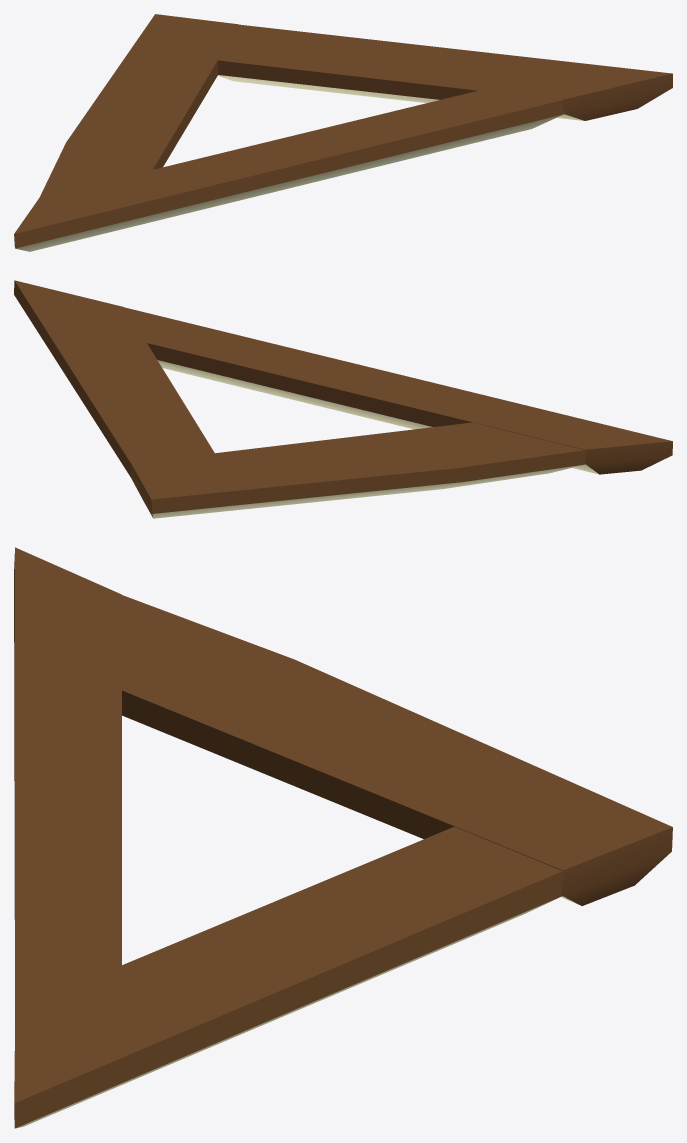
File: rt90_wood_2_willowSplitLogTriFloorSection1.glb
The picture shows the model from 3 angles, top to bottom: view 1: azimuth 30°, elevation 25°; view 2: azimuth 150°, elevation 25°; view 3: azimuth 270°, elevation 25°; orthographic projection. The views are drawn at different scales.
Visible parts, largest first — view 1: Outside; view 2: Outside; view 3: Outside.
Part boxes in pixels (x1=…): Outside: x1=14, y1=14, x2=672, y2=251; Outside: x1=14, y1=280, x2=672, y2=518; Outside: x1=14, y1=547, x2=672, y2=1128.
Bounding box in the file's own units: 2.86 × 0.1233 × 1.43.
